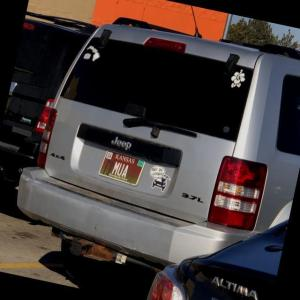Plate: (97, 149, 146, 186)
